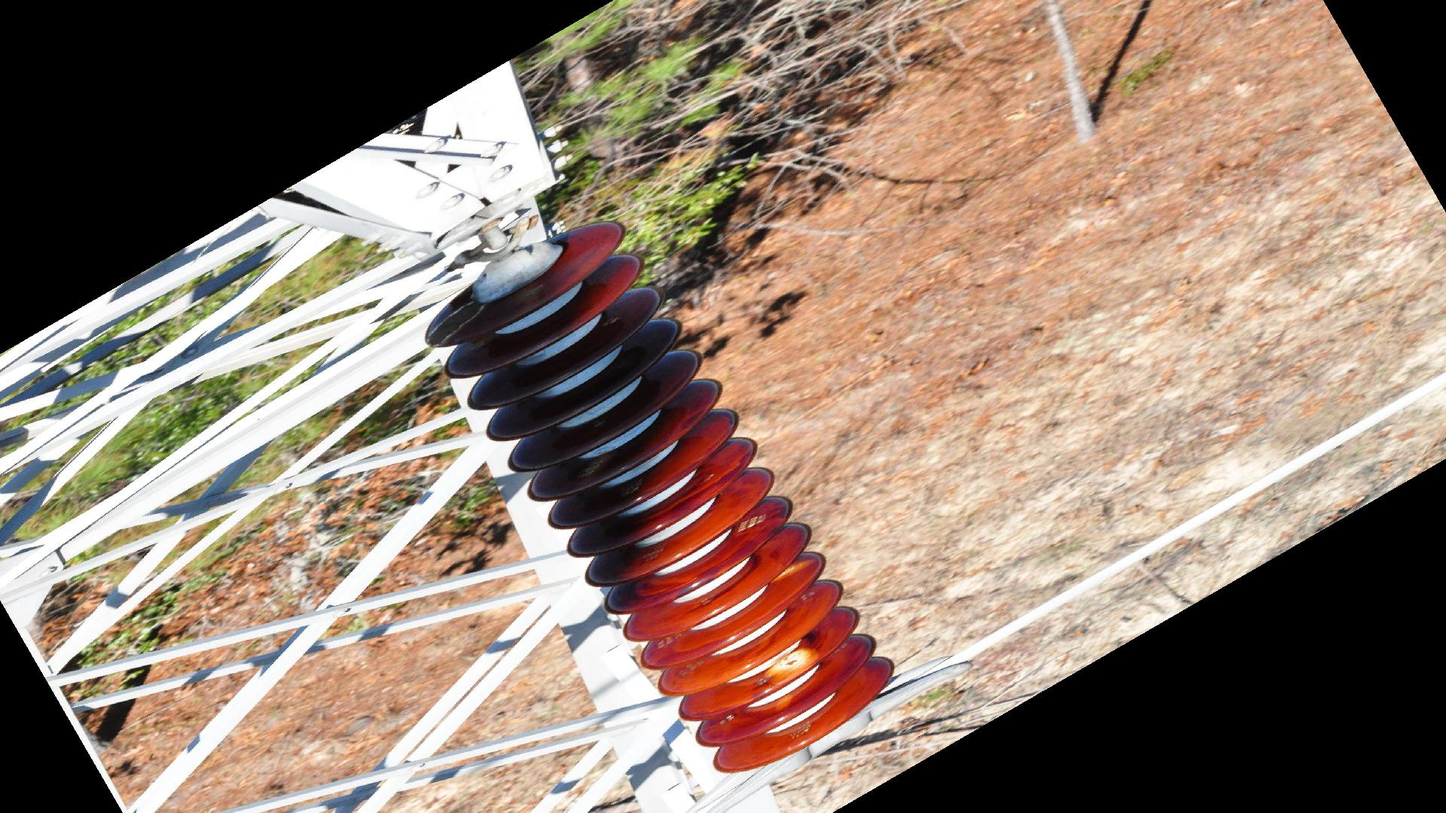insulator: (417, 215, 898, 777)
insulator_flashover: (423, 295, 487, 348), (758, 642, 822, 685), (770, 555, 817, 583)
